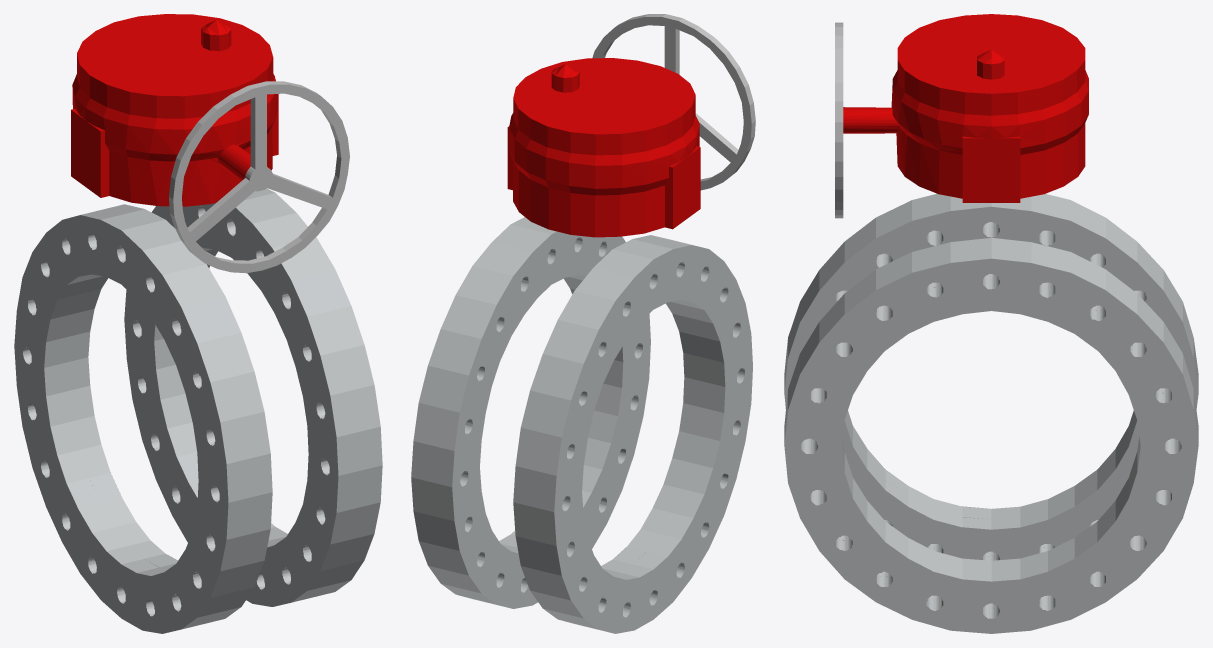
3 renders of one model, left to right at view 1: azimuth 30°, elevation 25°; view 2: azimuth 150°, elevation 25°; view 3: azimuth 270°, elevation 25°, orthographic. The views are drawn at different scales.
Bounding box in the file's own units: 0.3278 × 0.9517 × 0.6407.
